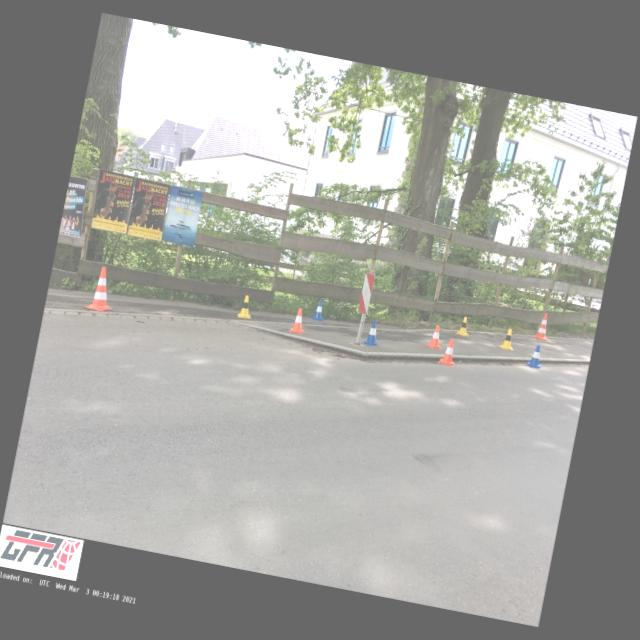blue_cone: (363, 318, 384, 346), (525, 343, 545, 369), (310, 299, 328, 322)
large_orange_cone: (87, 266, 119, 314), (532, 311, 554, 341)
orange_cone: (438, 338, 460, 368), (288, 307, 310, 335), (426, 324, 446, 350)
yellow_cone: (498, 328, 518, 352), (237, 294, 255, 320), (455, 315, 473, 337)
